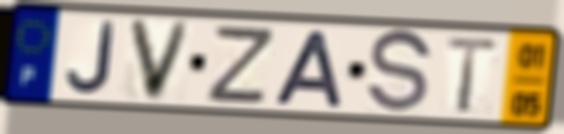A: (270, 27, 347, 110)
J: (63, 19, 118, 97)
S: (363, 27, 436, 119)
T: (442, 34, 503, 116)
V: (125, 16, 196, 105)
Z: (202, 25, 279, 108)
